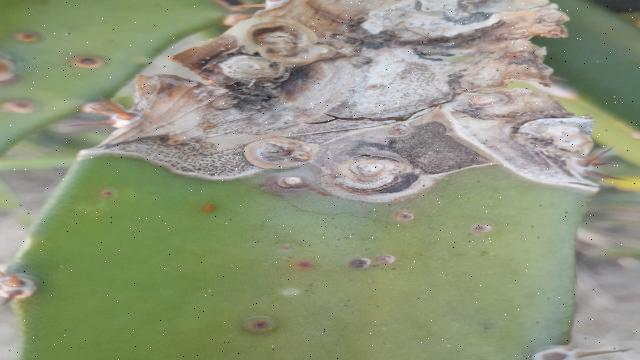stemcanker: (346, 252, 400, 277), (62, 50, 110, 75), (1, 93, 46, 118), (189, 195, 229, 222), (241, 312, 280, 337), (281, 254, 320, 278), (466, 215, 498, 241), (388, 204, 420, 225), (91, 182, 120, 203)
